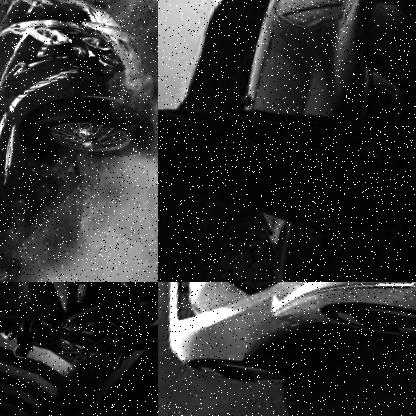bike: (0, 282, 158, 393)
car: (193, 0, 416, 282), (158, 282, 416, 416)
